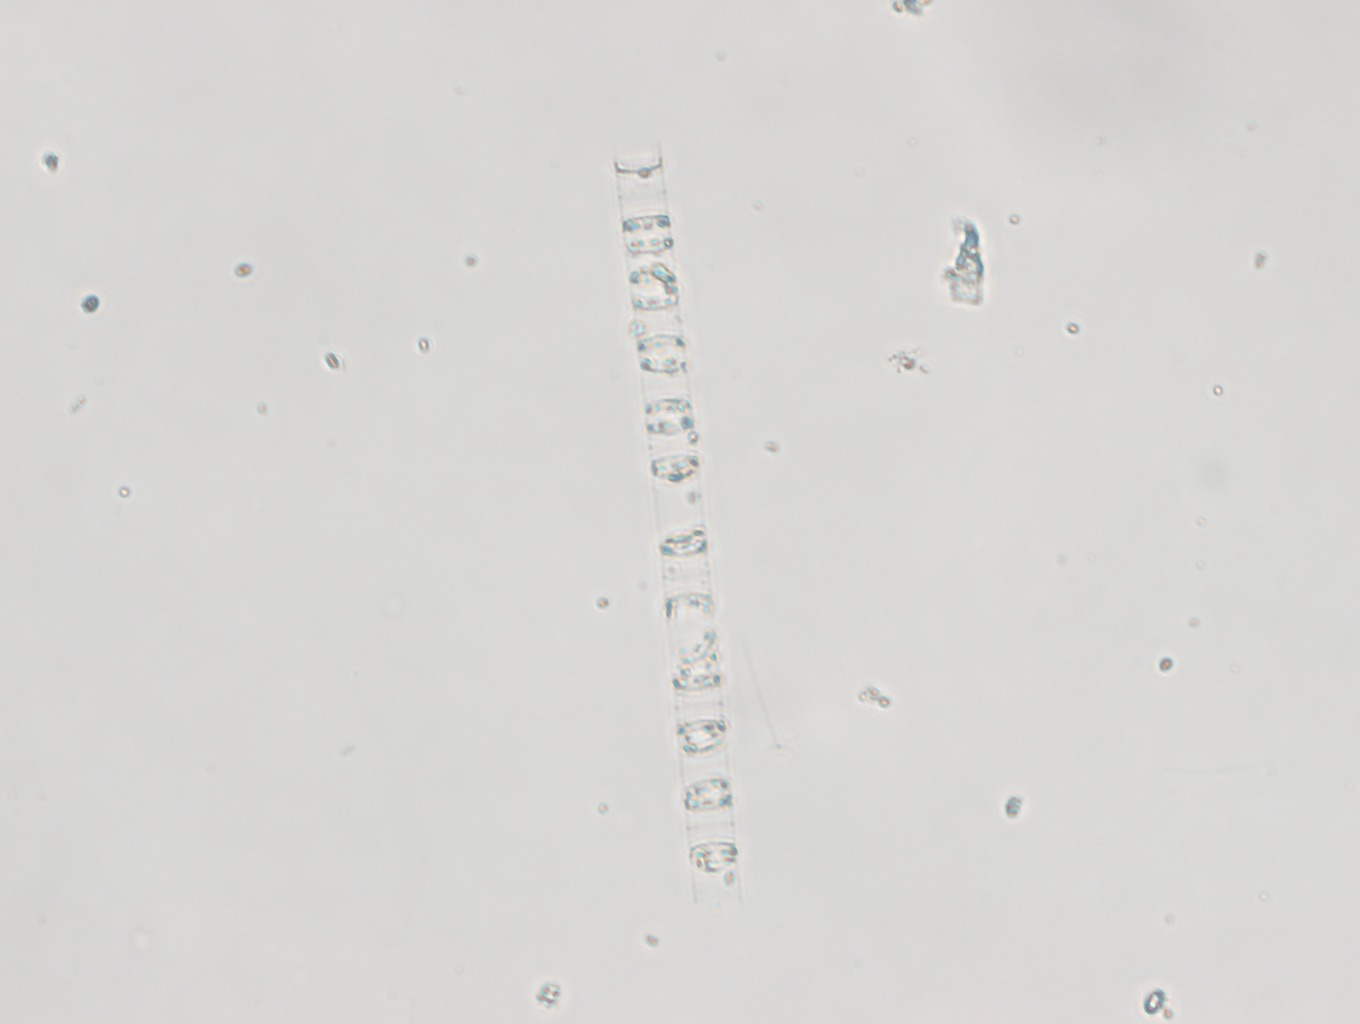skeletonema: (600, 146, 748, 918)
